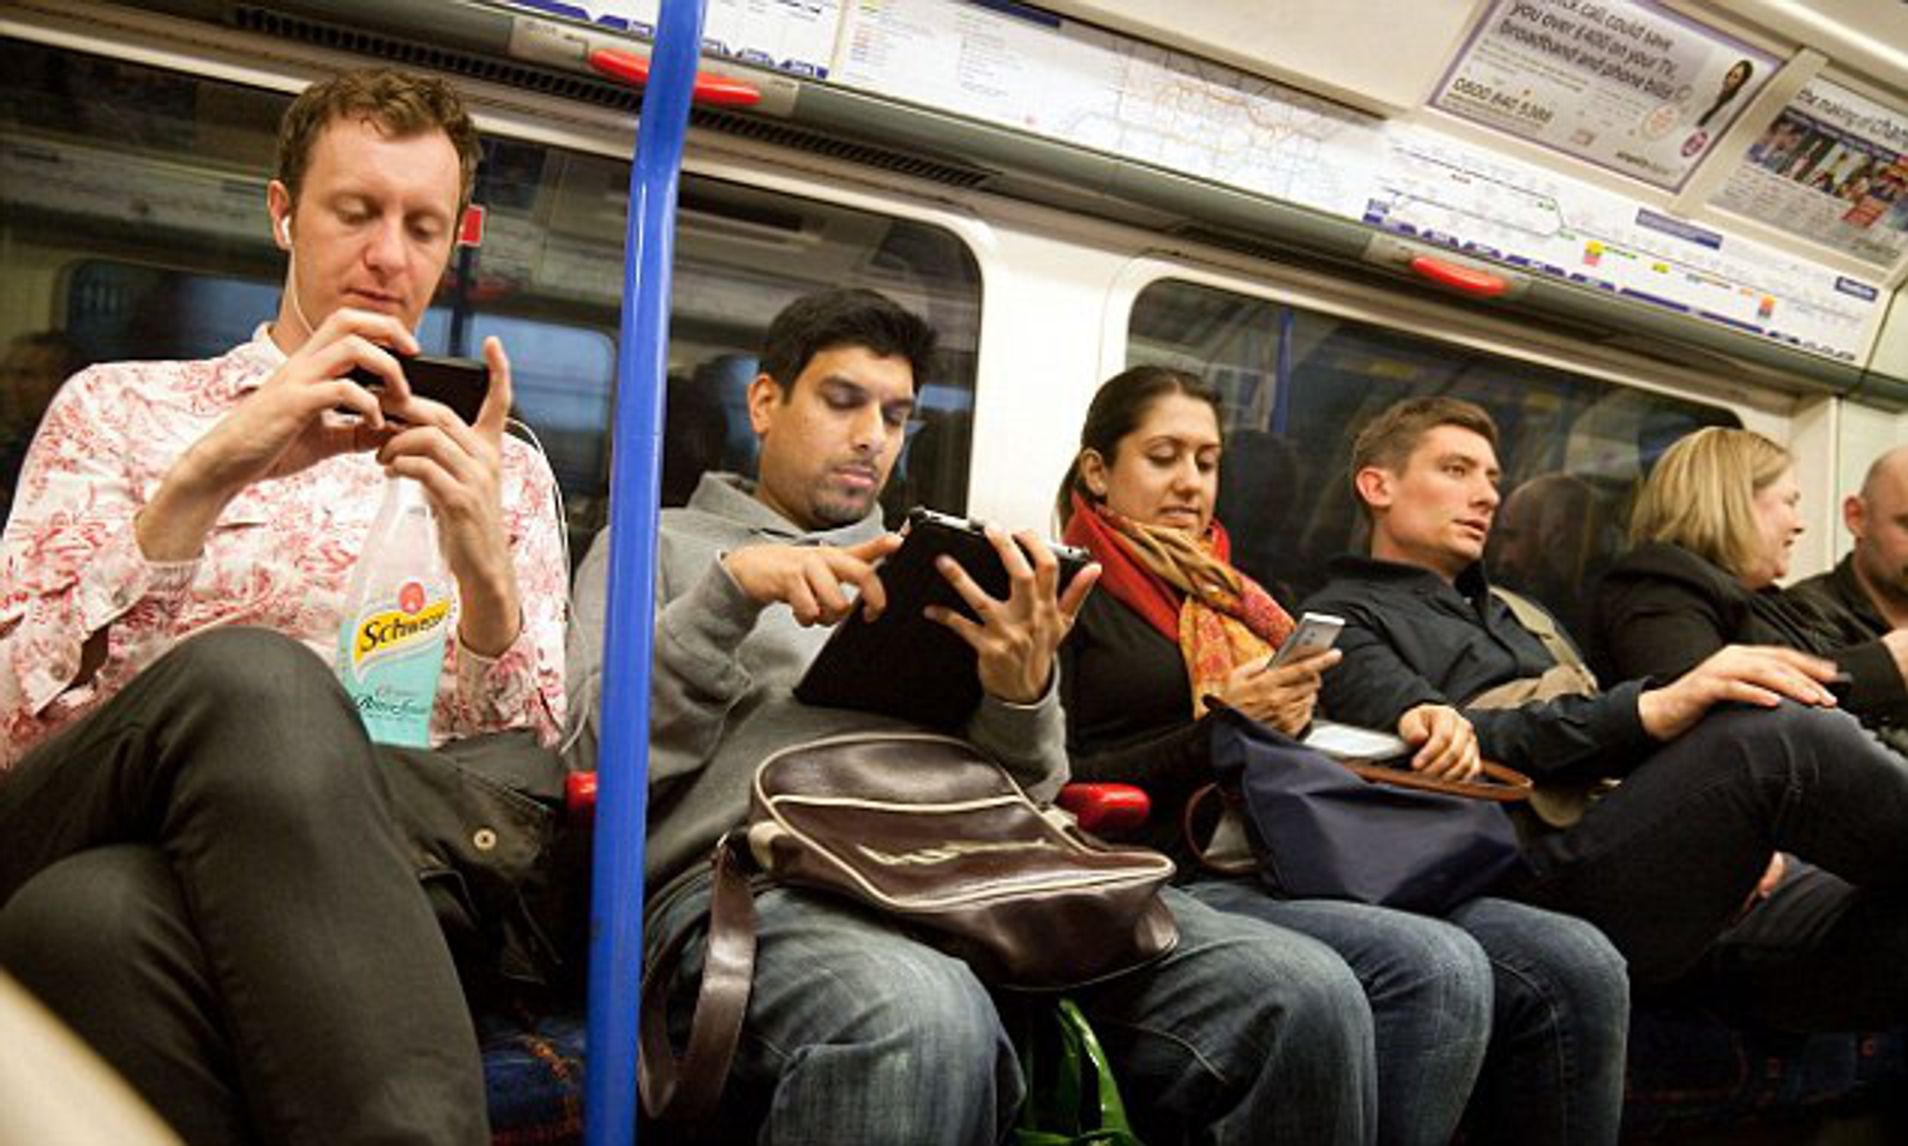without_mask: (306, 150, 448, 334), (795, 354, 911, 534), (1406, 432, 1506, 561), (1128, 401, 1219, 537), (1753, 461, 1813, 577)
